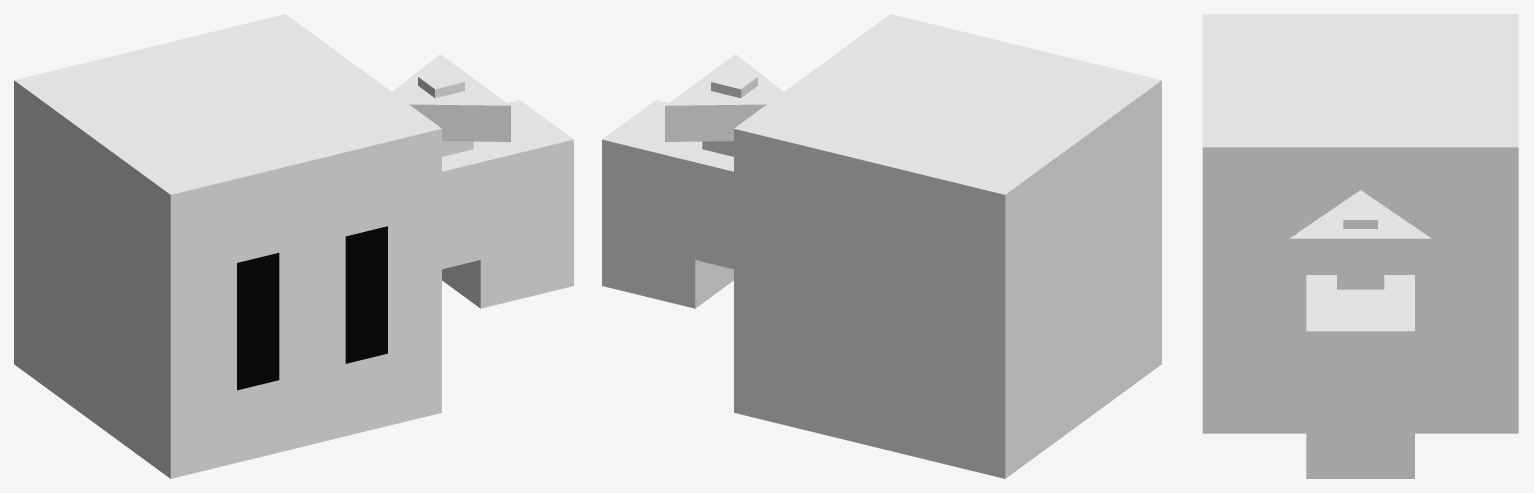
Rendered from zyaguti.obj.
3 views of the same model, side by side, from view 1: azimuth 30°, elevation 25°; view 2: azimuth 150°, elevation 25°; view 3: azimuth 270°, elevation 25° (orthographic).
Visible parts, largest first — view 1: pCube1, pCube4, pPlane2, pPlane1, pPlane4, pCube6; view 2: pCube1, pCube4, pPlane4, pPlane3, pCube6; view 3: pCube1, pCube4, pPlane4, pCube6, pCube5.
Boxes of the visible parts, left/top/right/bottom form: pCube1: left=14, top=14, right=441, bottom=478; pCube4: left=442, top=100, right=573, bottom=308; pPlane2: left=345, top=226, right=387, bottom=363; pPlane1: left=237, top=253, right=279, bottom=390; pPlane4: left=392, top=54, right=510, bottom=141; pCube6: left=418, top=69, right=464, bottom=98; pCube1: left=734, top=14, right=1161, bottom=478; pCube4: left=602, top=100, right=733, bottom=308; pPlane4: left=665, top=54, right=783, bottom=141; pPlane3: left=815, top=262, right=869, bottom=332; pCube6: left=711, top=69, right=757, bottom=98; pCube1: left=1202, top=14, right=1518, bottom=433; pCube4: left=1306, top=275, right=1414, bottom=478; pPlane4: left=1289, top=190, right=1431, bottom=274; pCube6: left=1343, top=205, right=1377, bottom=228; pCube5: left=1337, top=275, right=1384, bottom=289.
Bounding box in the file's own units: 8.38 × 5 × 5.21.
2 materials, 1 textured.
